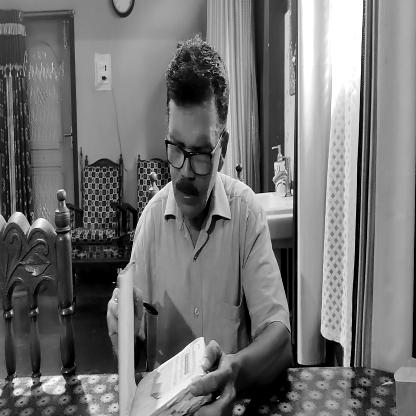Normal: (164, 40, 226, 221)
